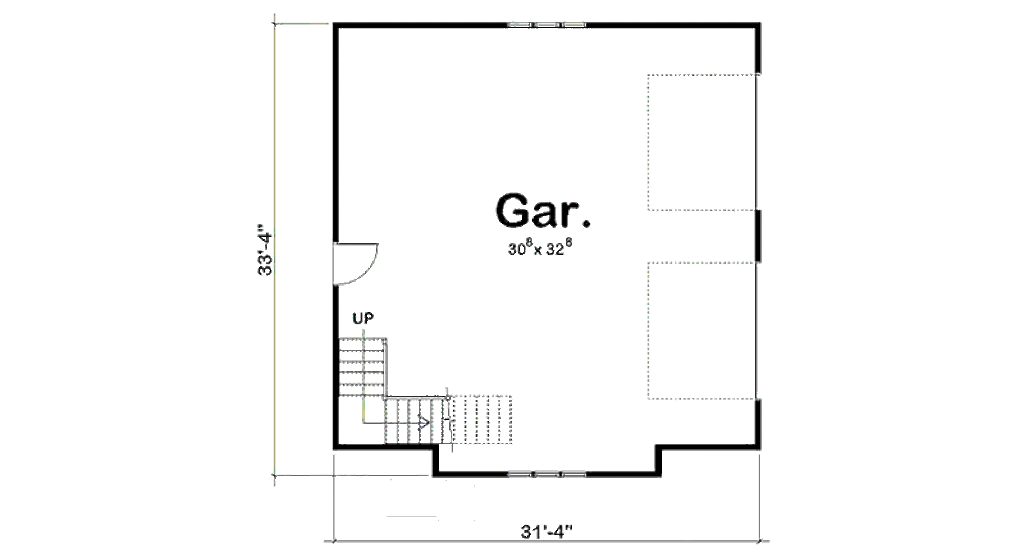door: (318, 234, 390, 289)
stairs: (330, 329, 524, 448)
window: (502, 467, 589, 481), (509, 21, 585, 31)
